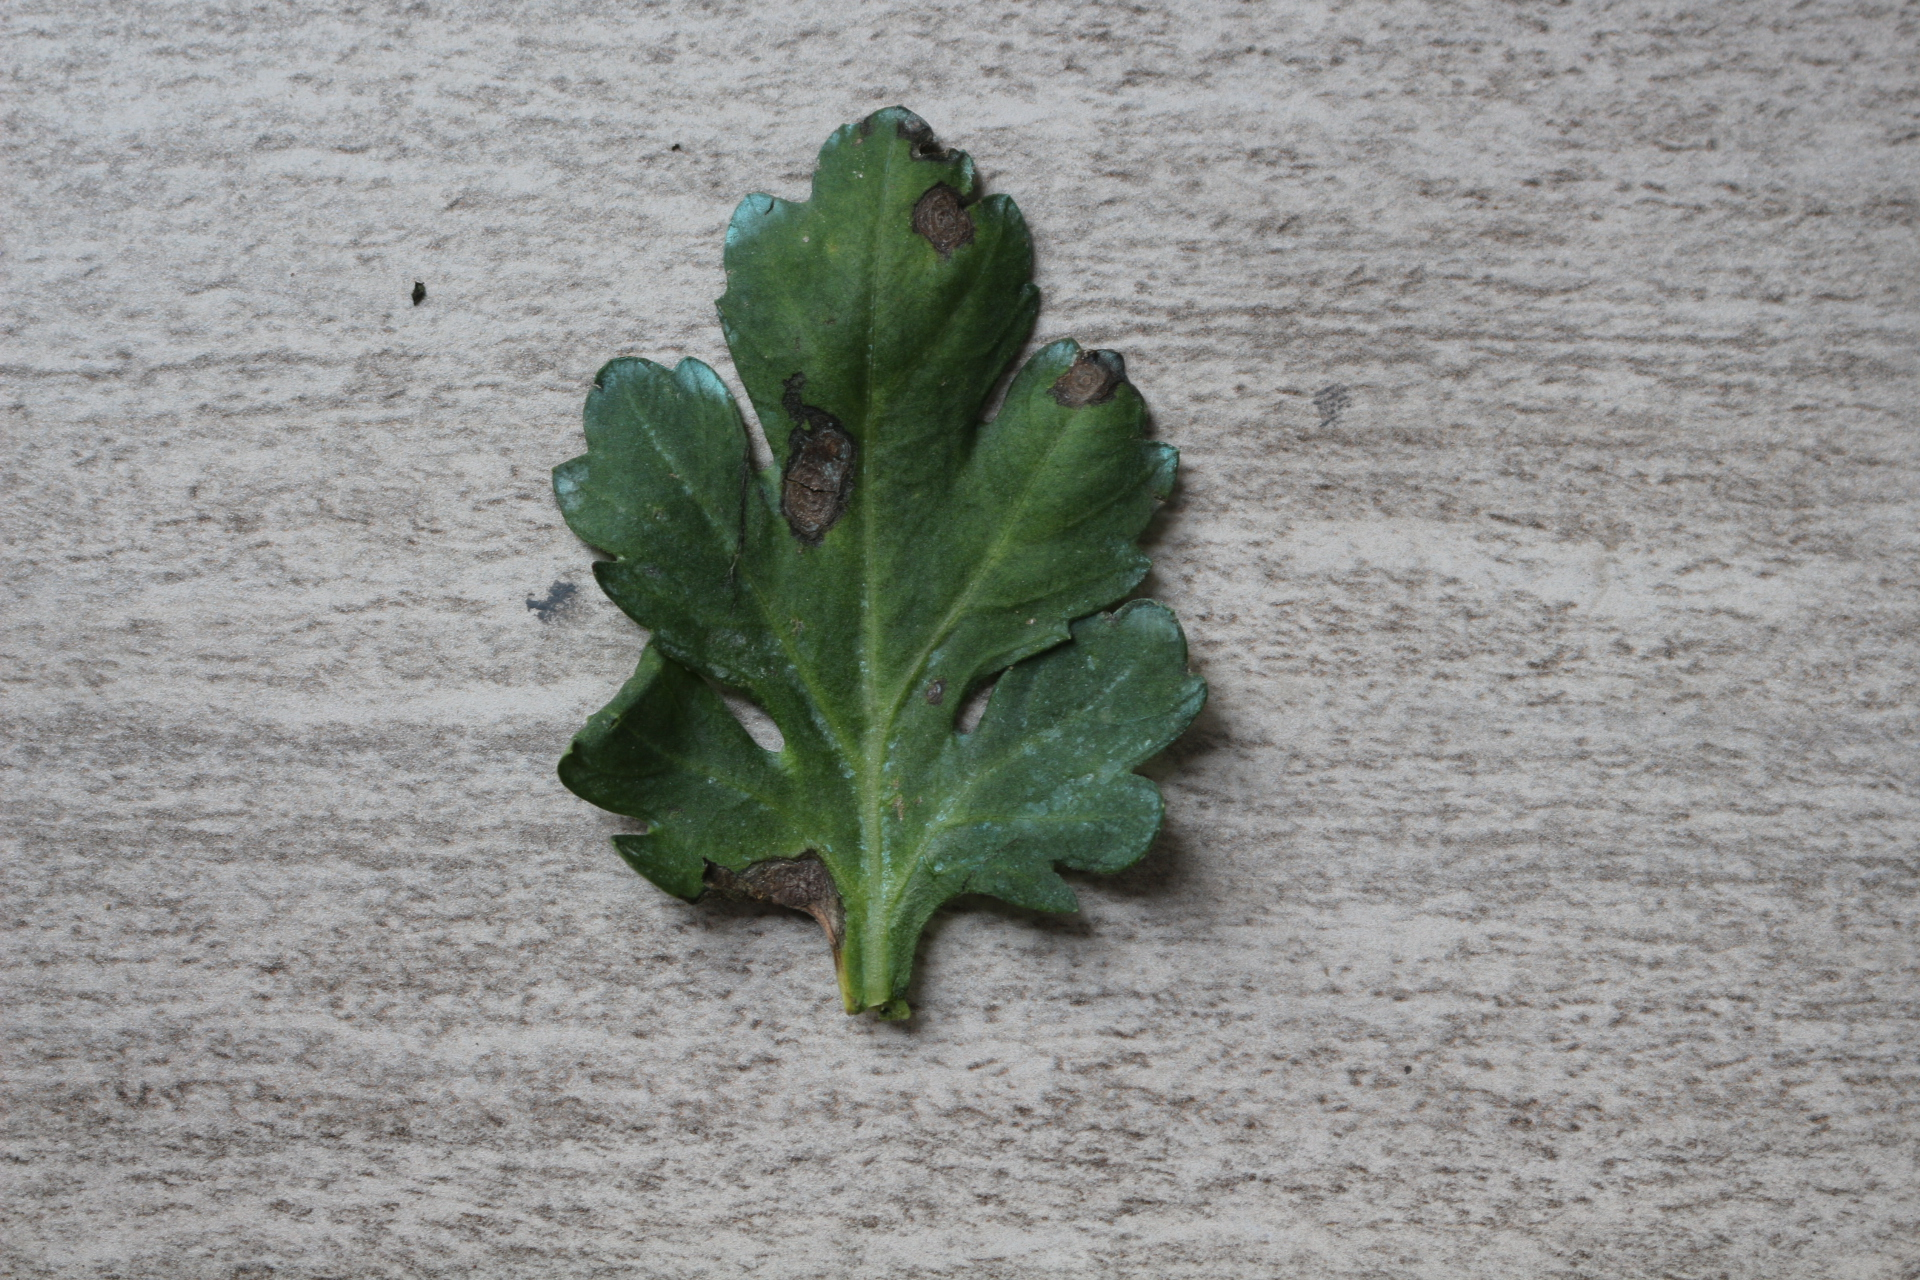namden: (761, 400, 863, 544), (703, 844, 846, 946), (904, 174, 984, 261), (1053, 349, 1134, 414), (919, 674, 953, 707)
